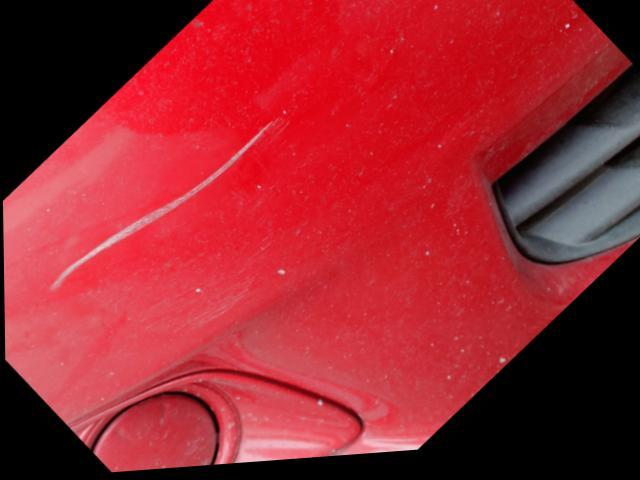scratch: (37, 113, 291, 302)
